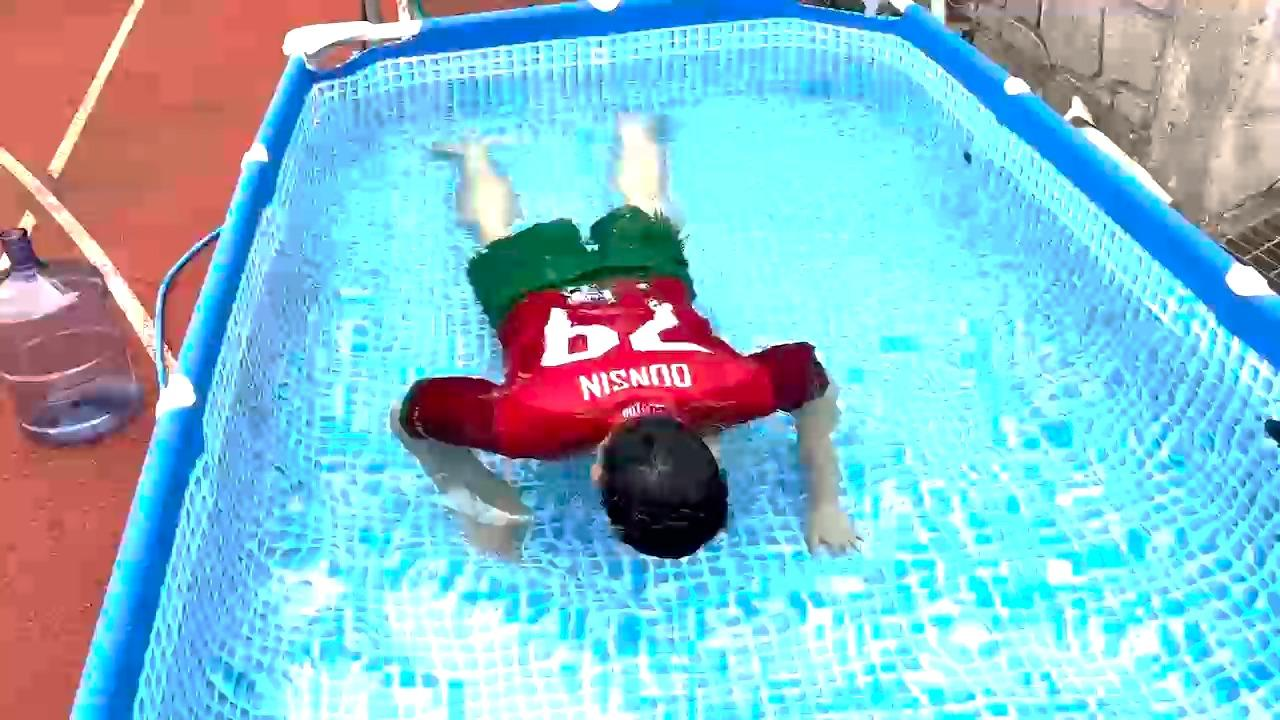Drowning: (359, 92, 893, 597)
